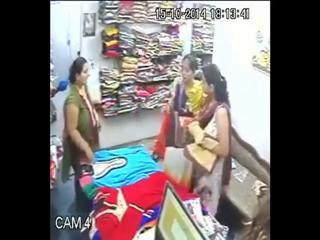Normal: (183, 64, 232, 201), (62, 57, 103, 208)
